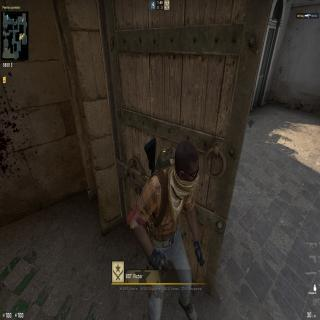T-Head: (171, 134, 202, 220)
